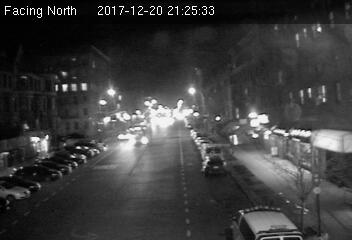car: (201, 156, 226, 174)
police: (226, 202, 299, 240)
